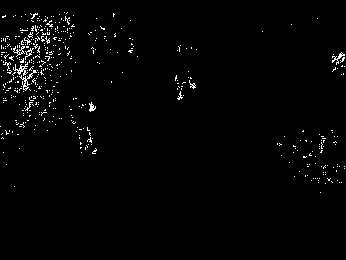person: (67, 96, 101, 155), (173, 69, 197, 103)
